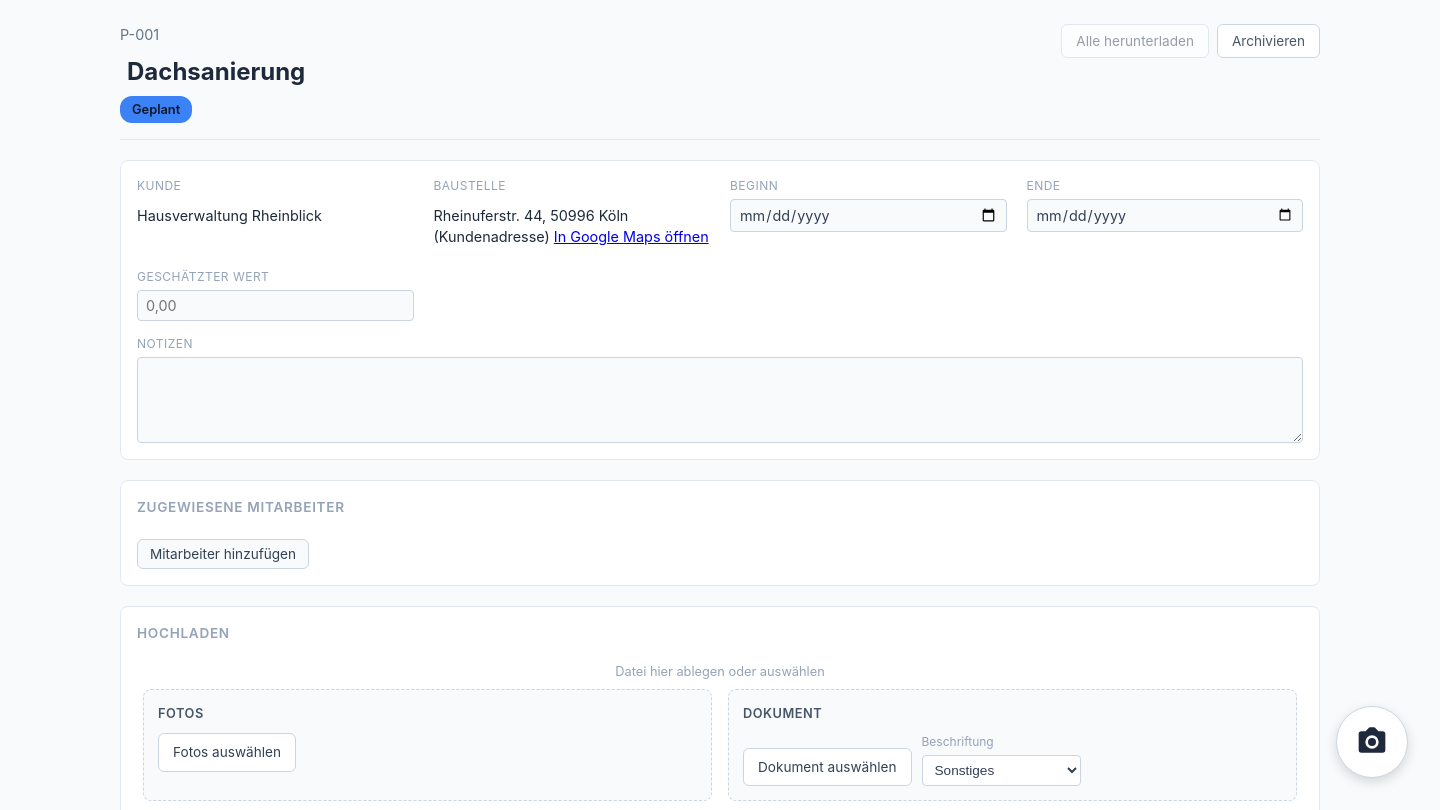
Test: ProjectDetailPage — Baustelle group (AC-280, edit branch) › renders the Baustelle group on the edit surface
This screenshot has width=1440, height=810.
Click the button with test id "project-detail-site-address-edit" at (572, 215), box left=426, top=171, right=718, bottom=260
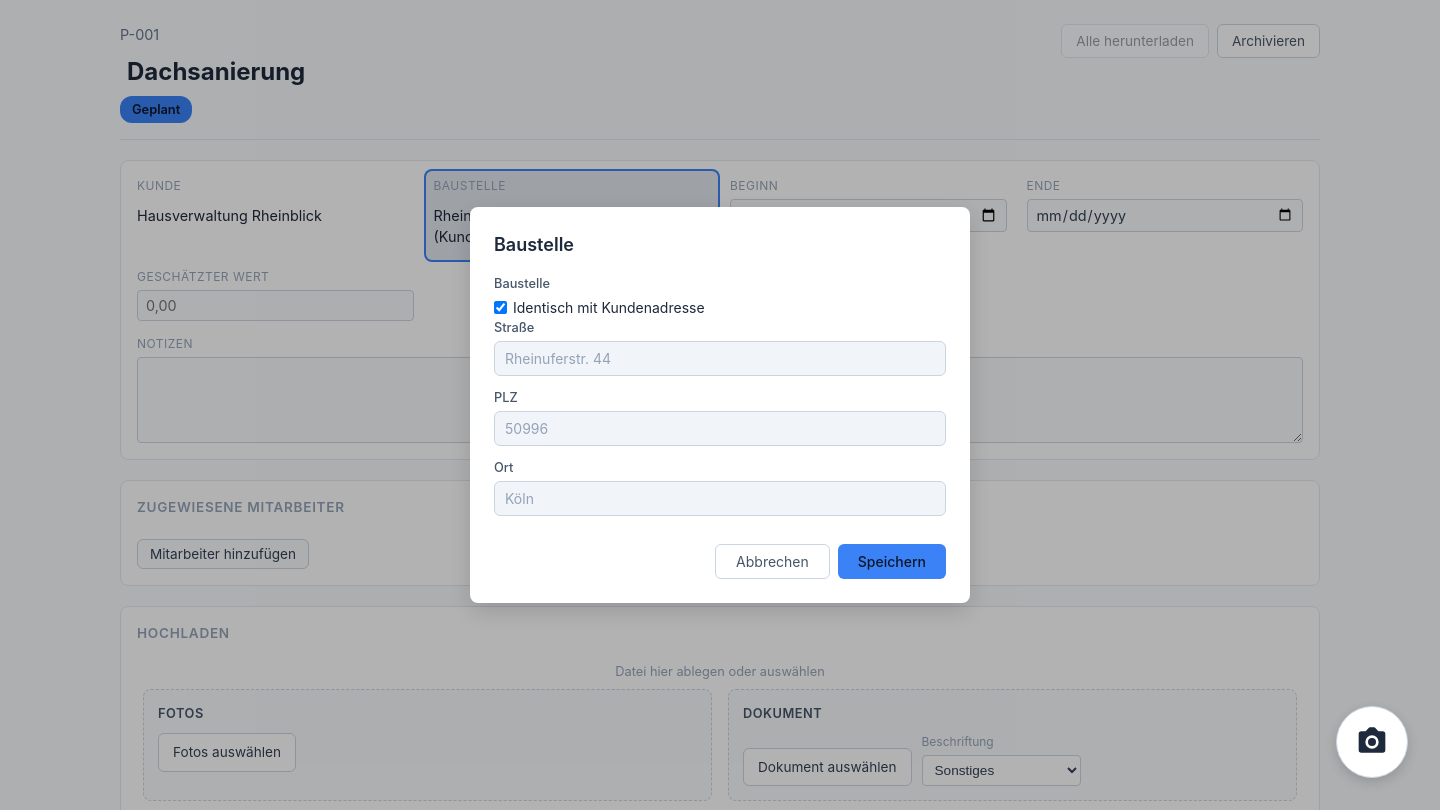
Result: the checkbox labelled "Identisch mit Kundenadresse" is shown at left=494, top=301, right=507, bottom=314
Result: the field with test id "project-site-street-input" is shown at left=494, top=341, right=946, bottom=376
Result: the field with test id "project-site-zip-input" is shown at left=494, top=411, right=946, bottom=446
